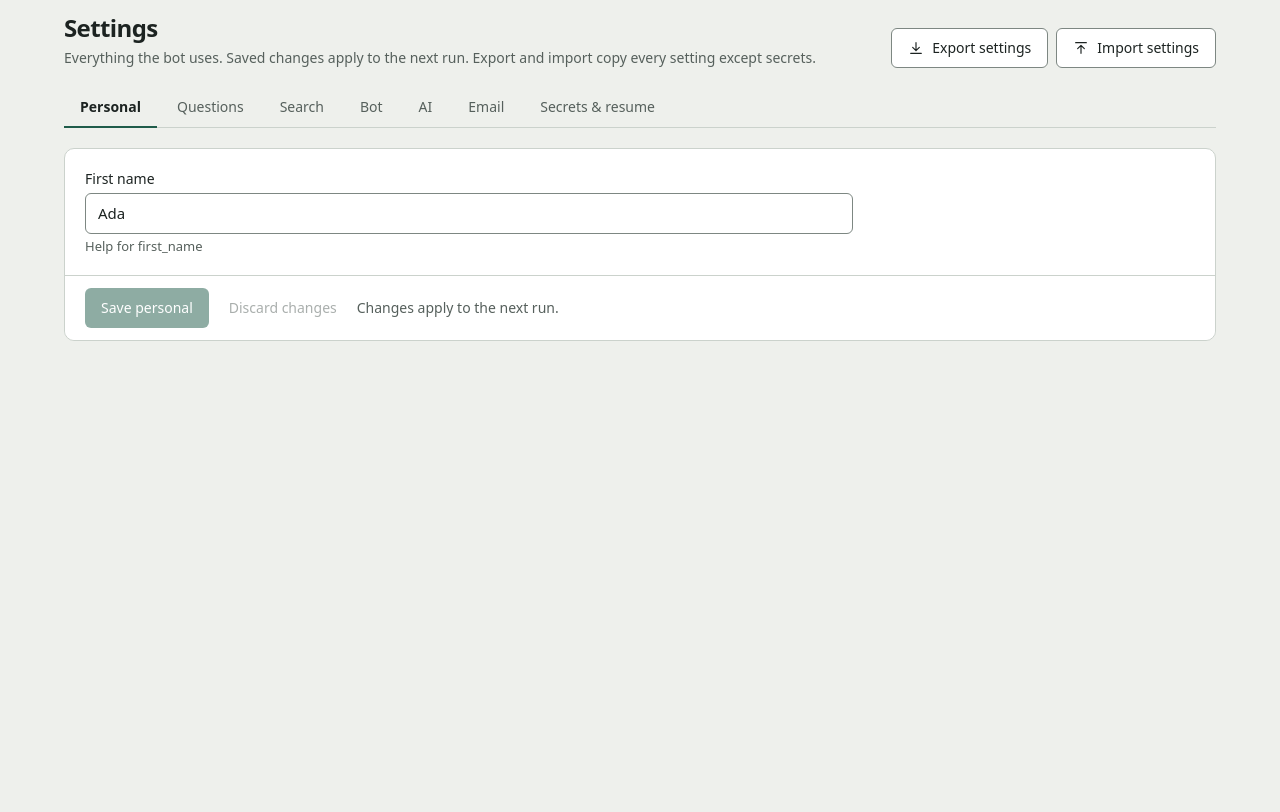
Test case: renders enum as select with schema options
The image size is (1280, 812).
Click the tab "Search" at (302, 108), box x1=264 y1=88 x2=340 y2=128
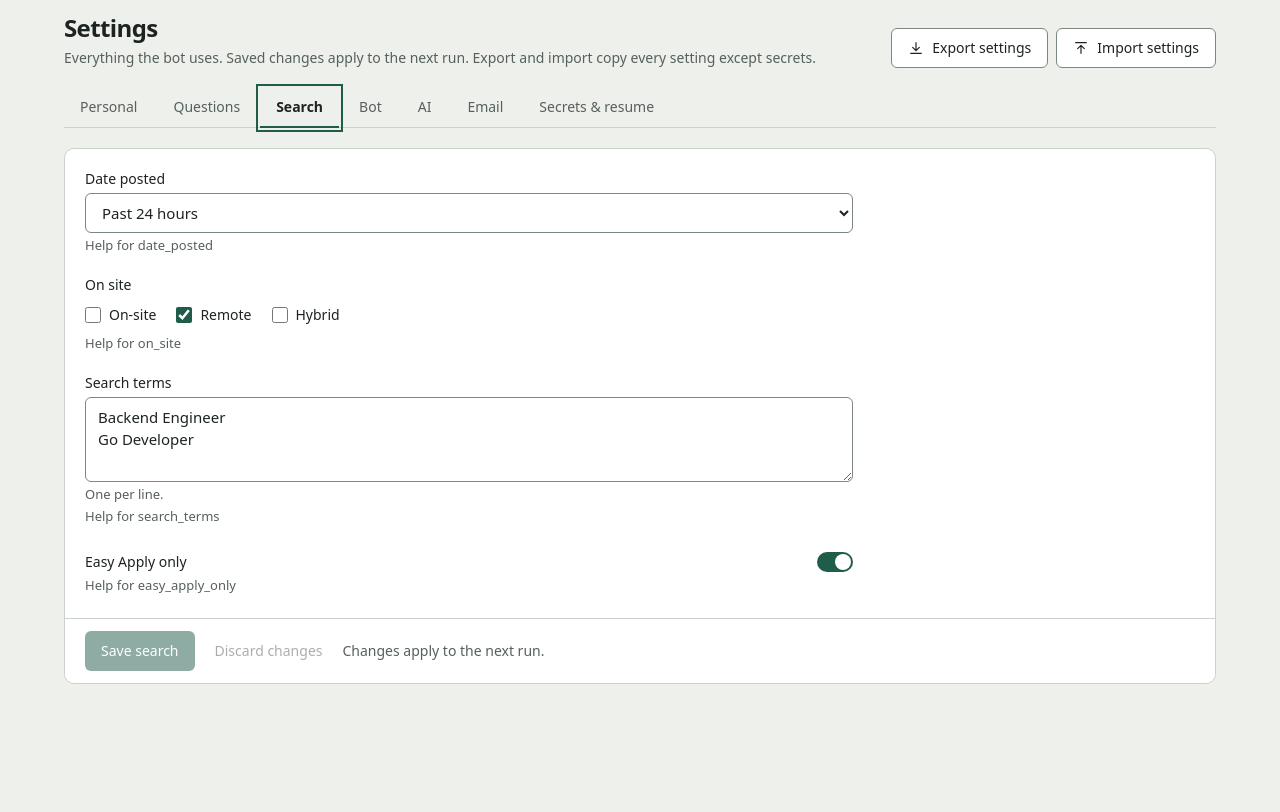
Expected: the dropdown labelled "Date posted" shows "Past 24 hours", x1=85 y1=193 x2=853 y2=233
Expected: the checkbox labelled "Remote" is checked, x1=176 y1=307 x2=192 y2=323
Expected: the switch labelled "Easy Apply only" is checked, x1=817 y1=552 x2=853 y2=572
